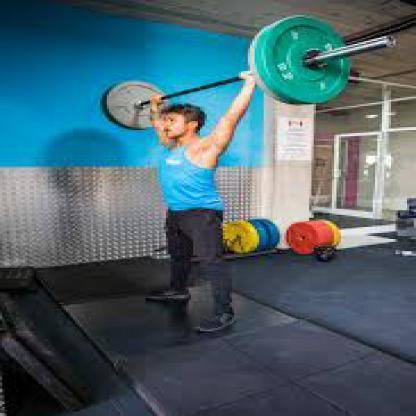barbell: (101, 12, 399, 132), (221, 208, 344, 257)
